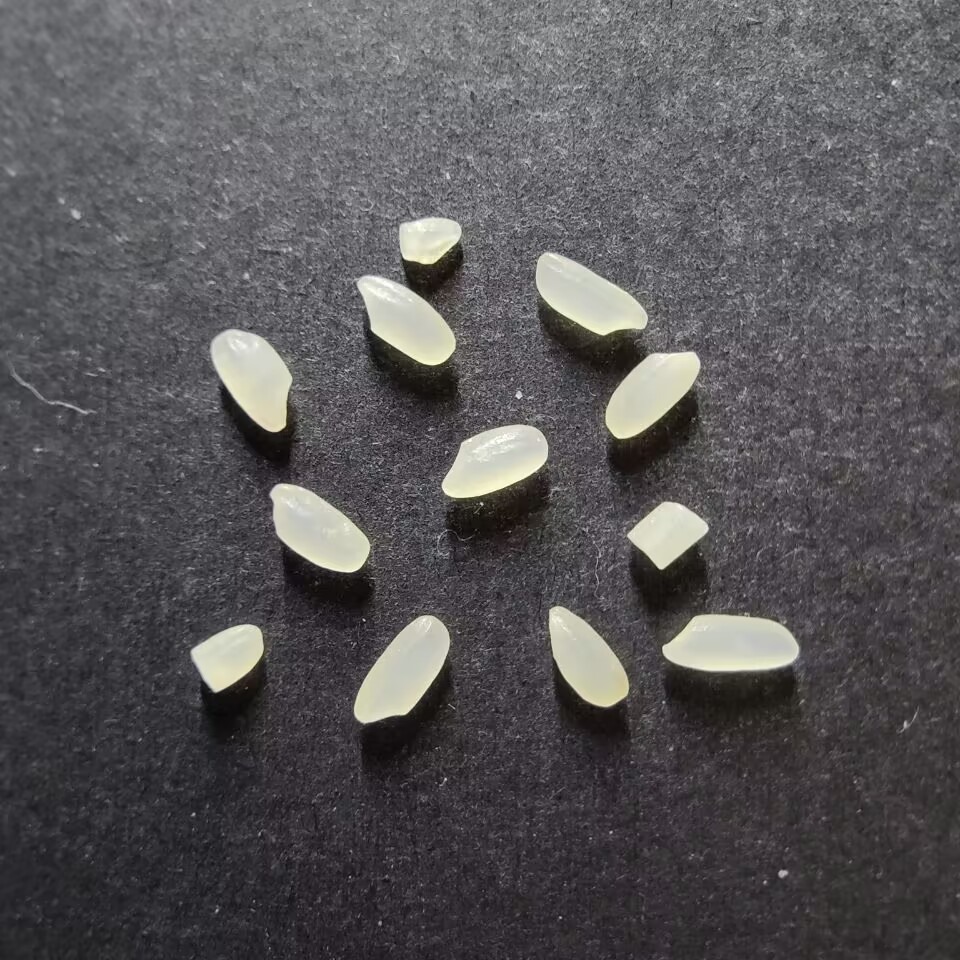broken: (626, 500, 710, 570), (189, 623, 265, 693), (396, 215, 462, 265)
rice: (352, 615, 450, 724), (534, 252, 648, 336), (355, 274, 456, 366), (268, 482, 370, 573), (603, 350, 702, 439), (547, 605, 630, 707), (210, 329, 292, 432), (661, 613, 800, 672), (440, 424, 549, 498)
